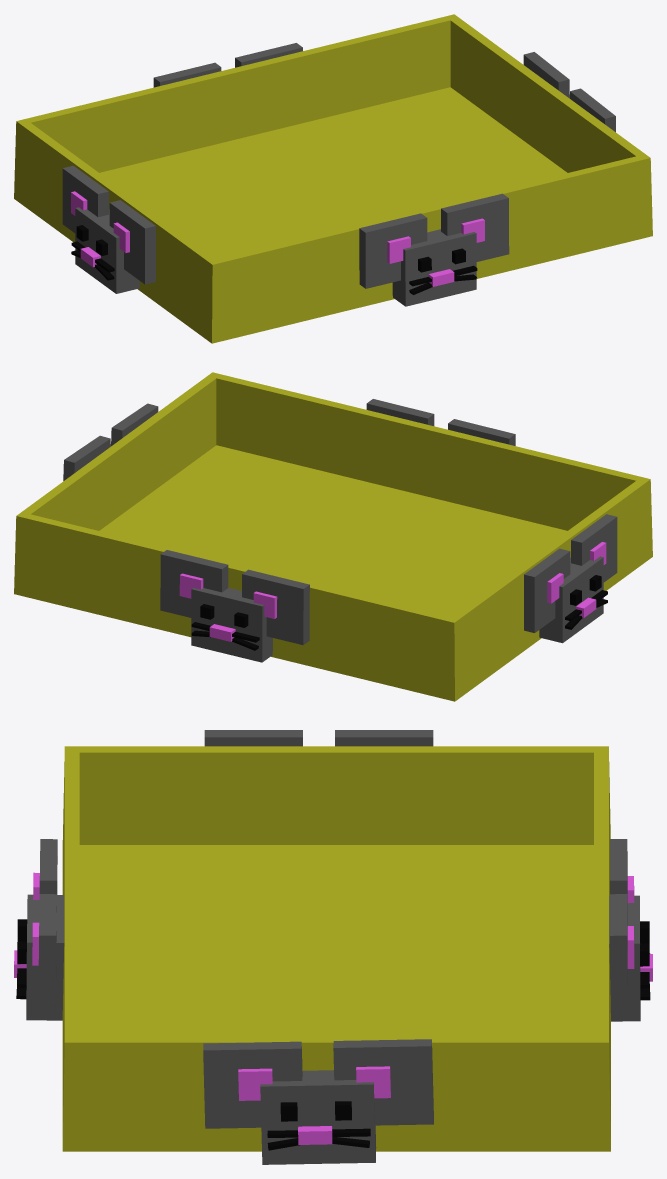
File: cheese ball pit.fbx
3 renders of one model, top to bottom at view 1: azimuth 30°, elevation 25°; view 2: azimuth 150°, elevation 25°; view 3: azimuth 270°, elevation 25°, orthographic. The views are drawn at different scales.
Visible parts, largest first — view 1: group10_pasted__group8_pasted__pCube4; view 2: group10_pasted__group8_pasted__pCube4; view 3: group10_pasted__group8_pasted__pCube4.
Boxes of the visible parts, x1=… form: group10_pasted__group8_pasted__pCube4: x1=14, y1=14, x2=652, y2=343; group10_pasted__group8_pasted__pCube4: x1=14, y1=372, x2=652, y2=701; group10_pasted__group8_pasted__pCube4: x1=14, y1=730, x2=652, y2=1164.
Size of the model in its own units: 19.28 by 3.05 by 15.31.
